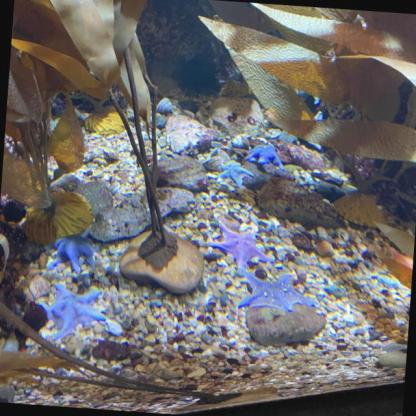starfish: (37, 280, 108, 346), (232, 268, 319, 316), (206, 220, 272, 273), (43, 227, 98, 277), (242, 140, 283, 171), (214, 159, 252, 187)
